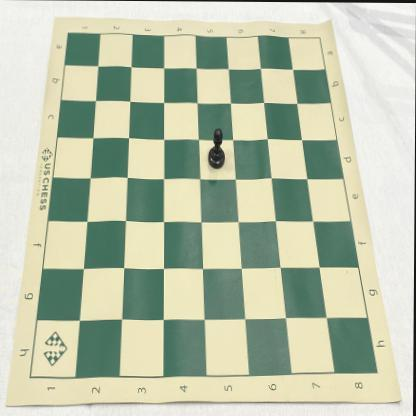black-pawn: (208, 127, 226, 169)
